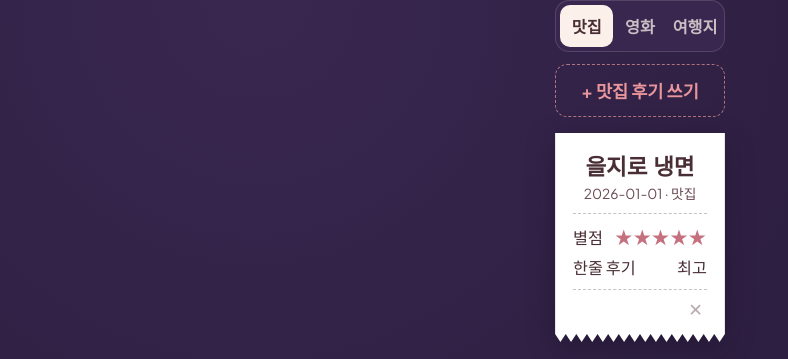
it: Archive › shows each kind as its own keepsake
The width and height of the screenshot is (788, 359).
Click the button "영화".
click(640, 26)  # box [613, 5, 667, 47]
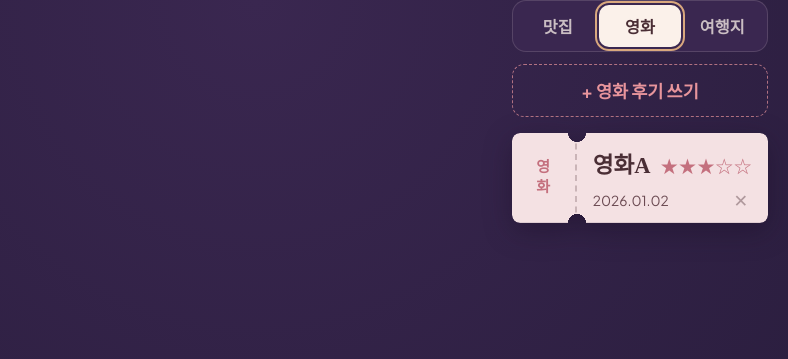
Check: the text "2026.01.02" is shown, box [593, 192, 669, 208]
Click the button "여행지".
click(722, 26)  # box [681, 5, 763, 47]
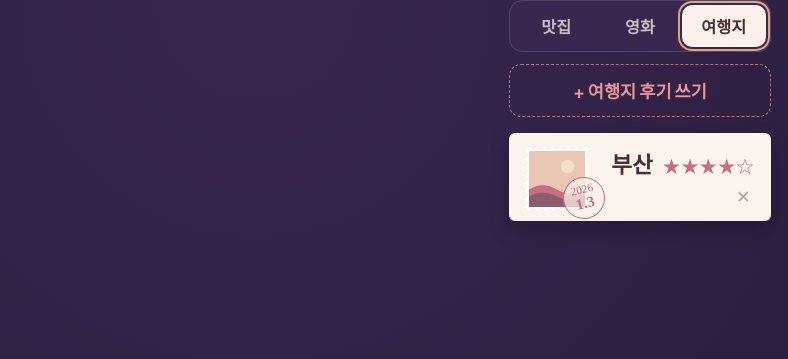
Check: the element named "2026-01-03" reads "2026 1.3", box [559, 172, 610, 223]
